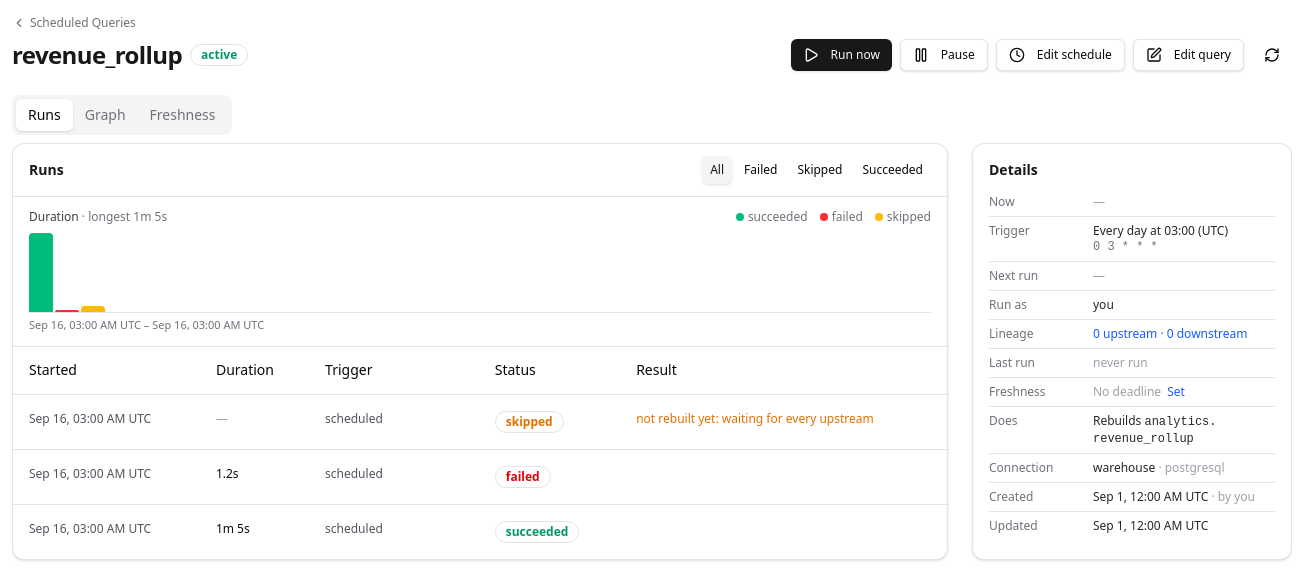
Test: per-model schedule page › draws the table's runs as duration bars above it, and follows the filter
This screenshot has width=1304, height=578.
expect the number of rows is 4: met, box [13,346,947,394]; [13,394,947,450]; [13,450,947,504]; [13,504,947,559]
Click the button "Failed": coordinates (761, 170) [736,156,785,184]
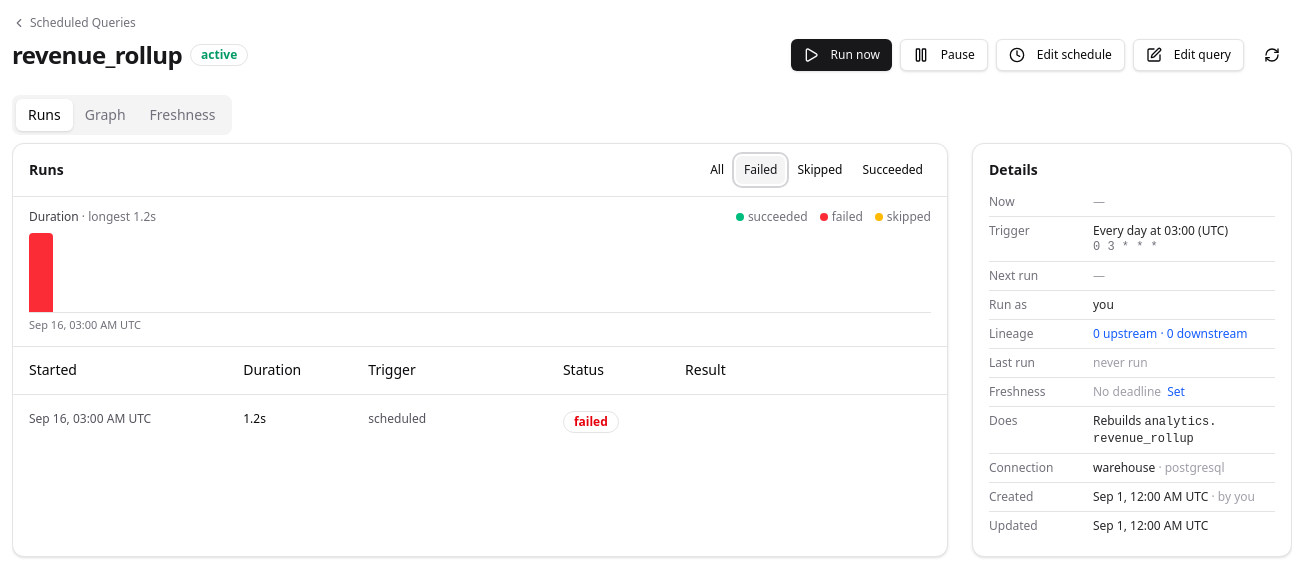
expect the number of rows is 2: met, box [13,346,947,394]; [13,394,947,449]
